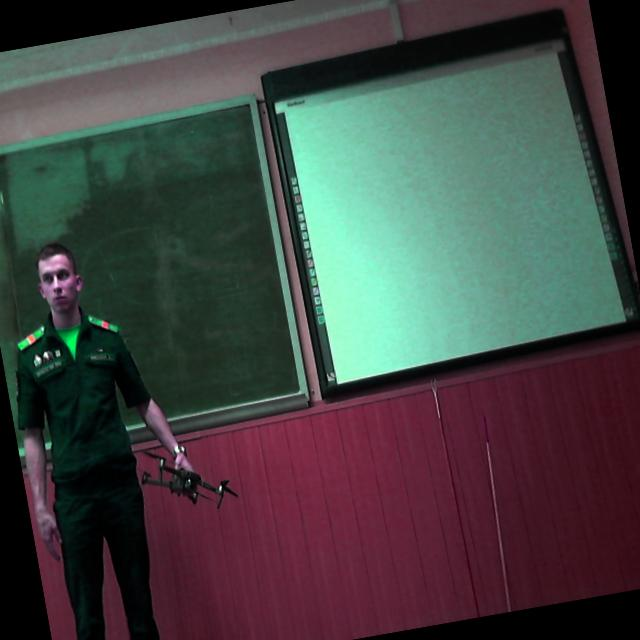drone: (124, 417, 246, 524)
